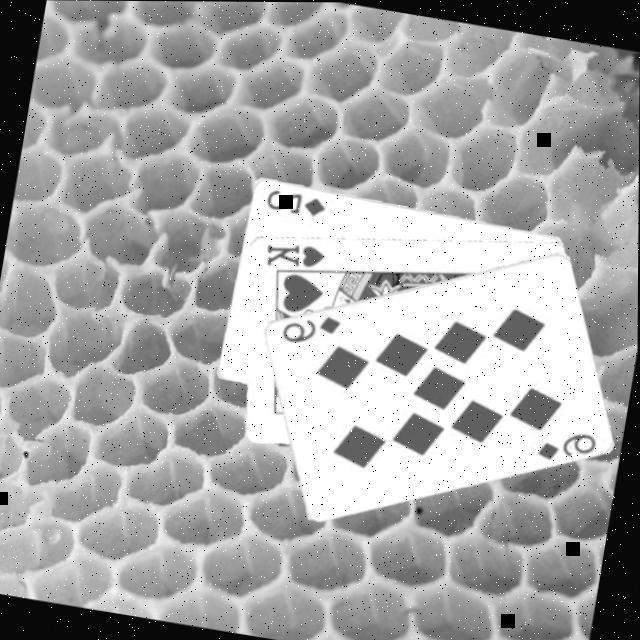2D: (262, 182, 329, 218)
9D: (276, 303, 343, 351), (533, 419, 600, 467)
KH: (260, 233, 328, 275)
